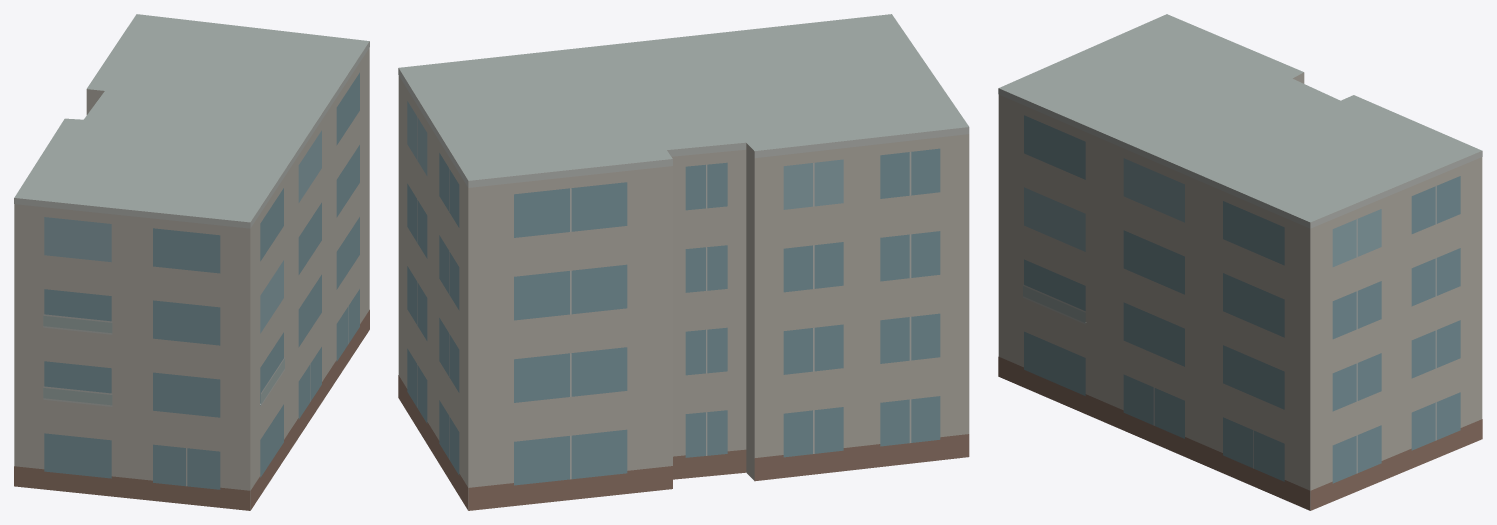
The model's file is survey-upis-32667365.glb.
3 views of the same model, side by side, from view 1: azimuth 30°, elevation 25°; view 2: azimuth 150°, elevation 25°; view 3: azimuth 270°, elevation 25° (orthographic). The views are drawn at different scales.
Parts seen in each view (by area): view 1: survey-upis-32667365.tmp; view 2: survey-upis-32667365.tmp; view 3: survey-upis-32667365.tmp.
Boxes of the visible parts, left/top/right/bottom form: survey-upis-32667365.tmp: left=14, top=14, right=369, bottom=510; survey-upis-32667365.tmp: left=398, top=14, right=969, bottom=510; survey-upis-32667365.tmp: left=998, top=14, right=1482, bottom=510.
Bounding box in the file's own units: 17.68 × 11.4 × 17.34.
